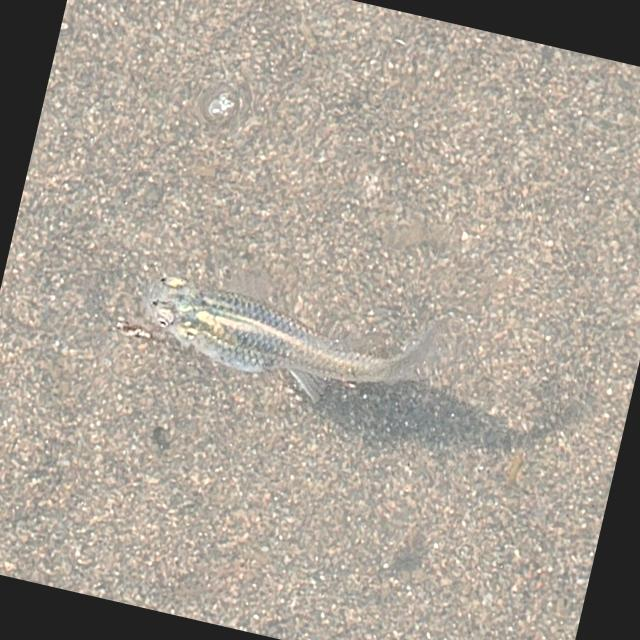Sivrisinek Baligi: (130, 252, 452, 428)
